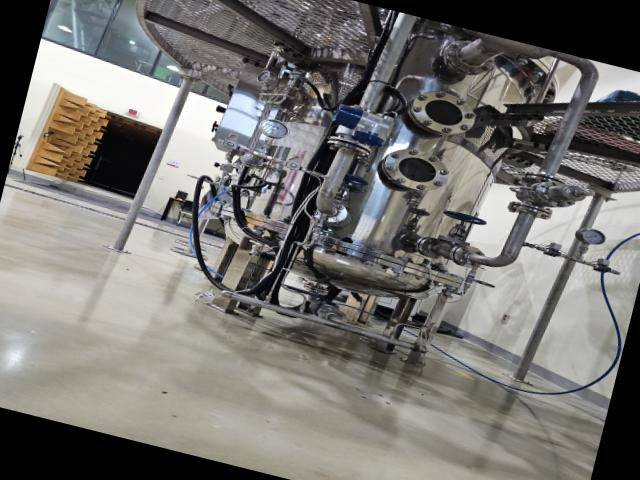Flange: (372, 141, 453, 199), (404, 84, 479, 144)
Flush Ring: (438, 35, 498, 81), (305, 194, 350, 228), (520, 169, 572, 197), (447, 242, 486, 272), (506, 198, 554, 222), (326, 135, 373, 159), (413, 234, 449, 262), (314, 304, 349, 329)
GasRegulator: (250, 62, 318, 123)
Nuts: (214, 134, 247, 154), (276, 156, 308, 175), (586, 260, 618, 278), (536, 244, 568, 261)
Piston Valve: (436, 208, 488, 251), (330, 171, 369, 211)
Pressure Gage: (251, 116, 291, 160), (570, 225, 608, 266)
